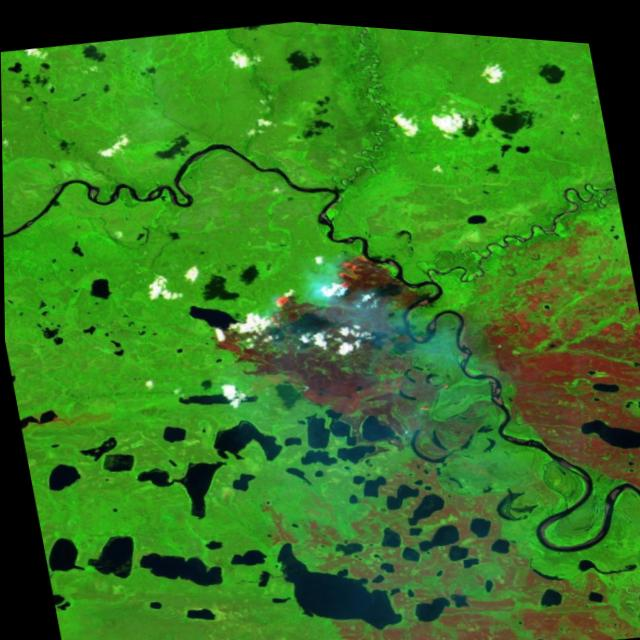fire: (213, 228, 389, 347)
